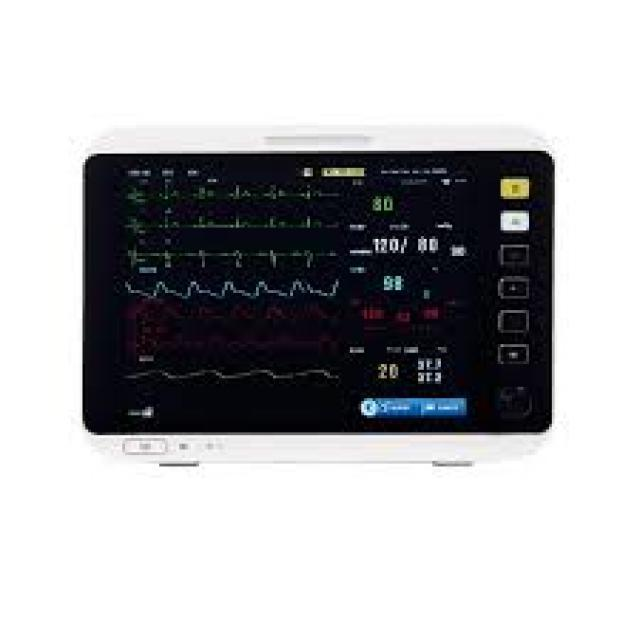cardiac_monitor: (79, 124, 560, 477)
